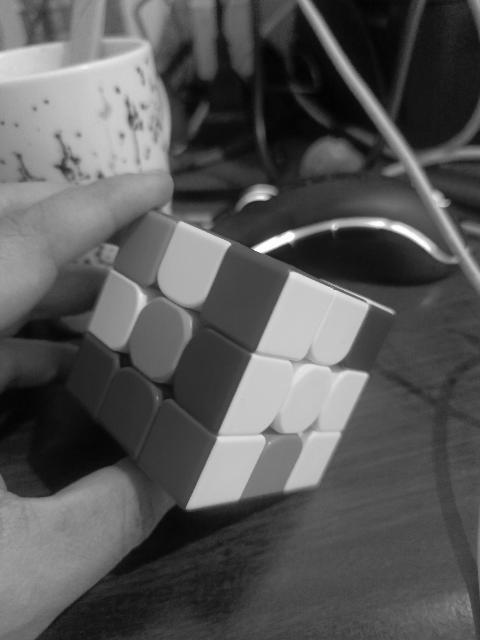rubik: (64, 208, 396, 512)
